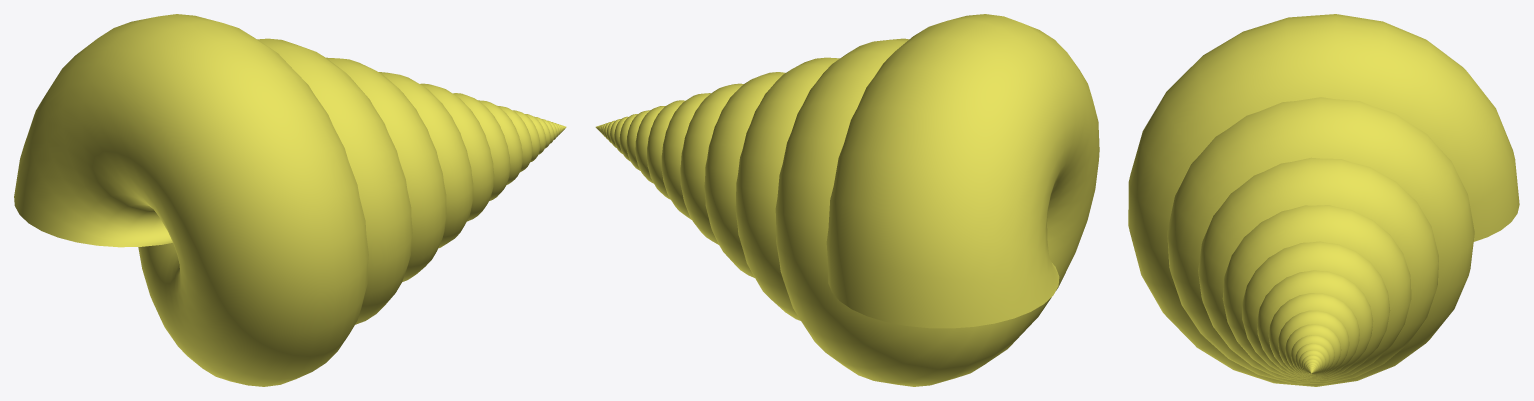
3 views of the same model, side by side, from view 1: azimuth 30°, elevation 25°; view 2: azimuth 150°, elevation 25°; view 3: azimuth 270°, elevation 25° (orthographic). The views are drawn at different scales.
Parts seen in each view (by area): view 1: t15; view 2: t15; view 3: t15.
Boxes of the visible parts, box(x1,y1,x2,y2) form: t15: box(14, 14, 566, 386); t15: box(595, 14, 1099, 386); t15: box(1128, 14, 1519, 386).
Bounding box in the file's own units: 500 × 339 × 360.
